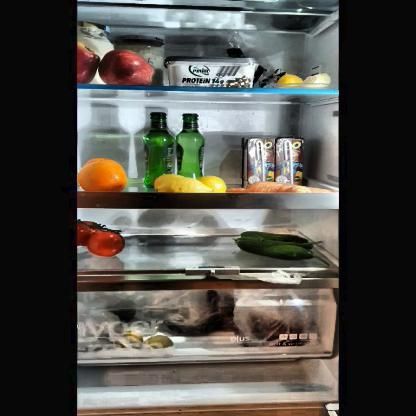cheese: (162, 55, 254, 87)
cucumber: (236, 239, 312, 259)
lemon: (156, 176, 210, 190), (198, 176, 227, 194), (278, 74, 302, 86)
mineral_water: (145, 113, 173, 187), (178, 112, 204, 177)
onion: (304, 74, 330, 86)
orange: (82, 158, 126, 190)
tomato: (89, 229, 123, 255)
